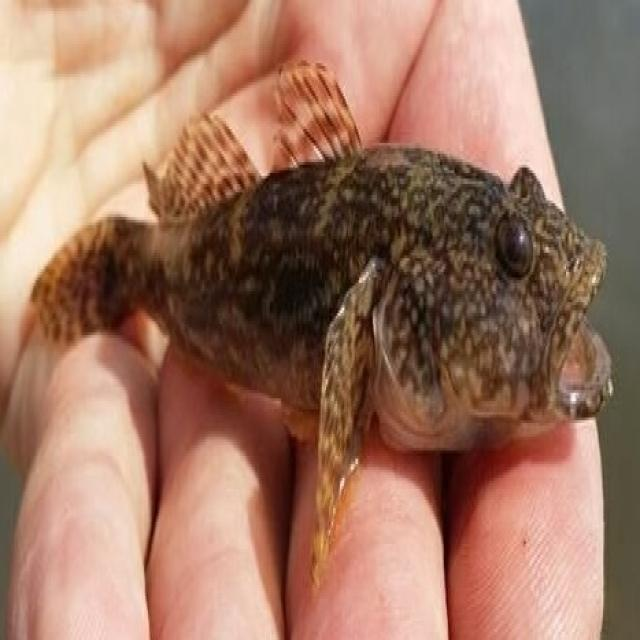Goby: (42, 5, 614, 567)
